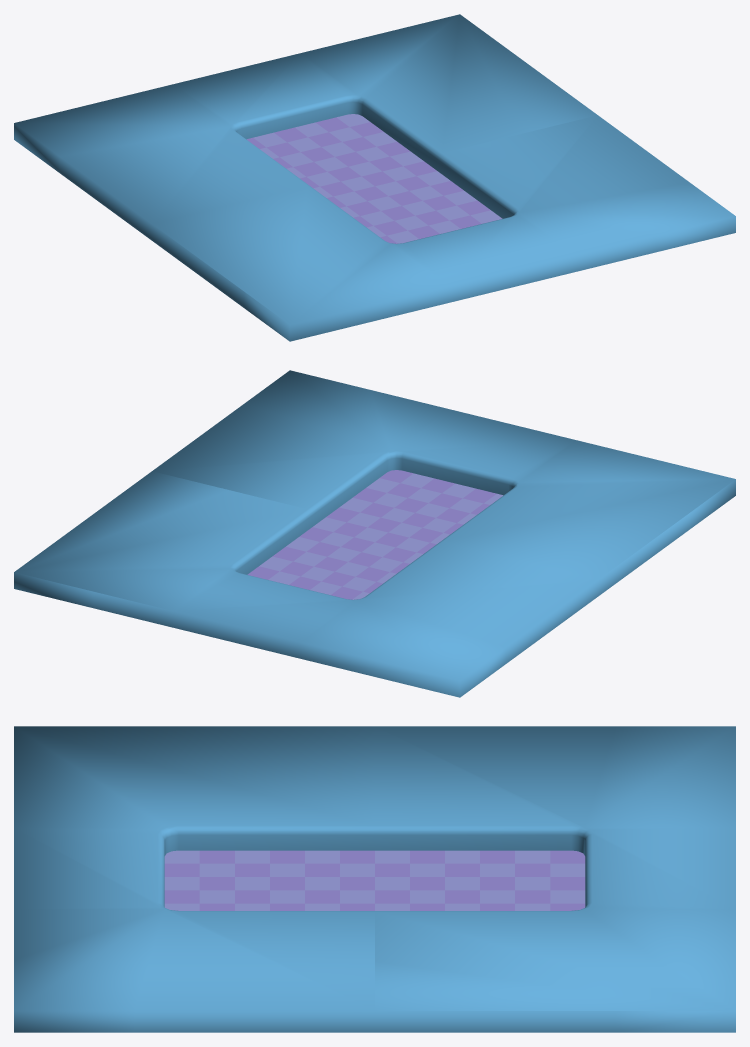
The model's file is Map 1.fbx.
The picture shows the model from 3 angles, top to bottom: view 1: azimuth 30°, elevation 25°; view 2: azimuth 150°, elevation 25°; view 3: azimuth 270°, elevation 25°; orthographic projection. The views are drawn at different scales.
Visible parts, largest first — view 1: Map; view 2: Map; view 3: Map.
Part boxes in pixels (x1,y1,x2,y2): Map: (14, 14, 735, 341); Map: (14, 370, 735, 697); Map: (14, 726, 735, 1032).
Size of the model in its own units: 56 by 2 by 60.
